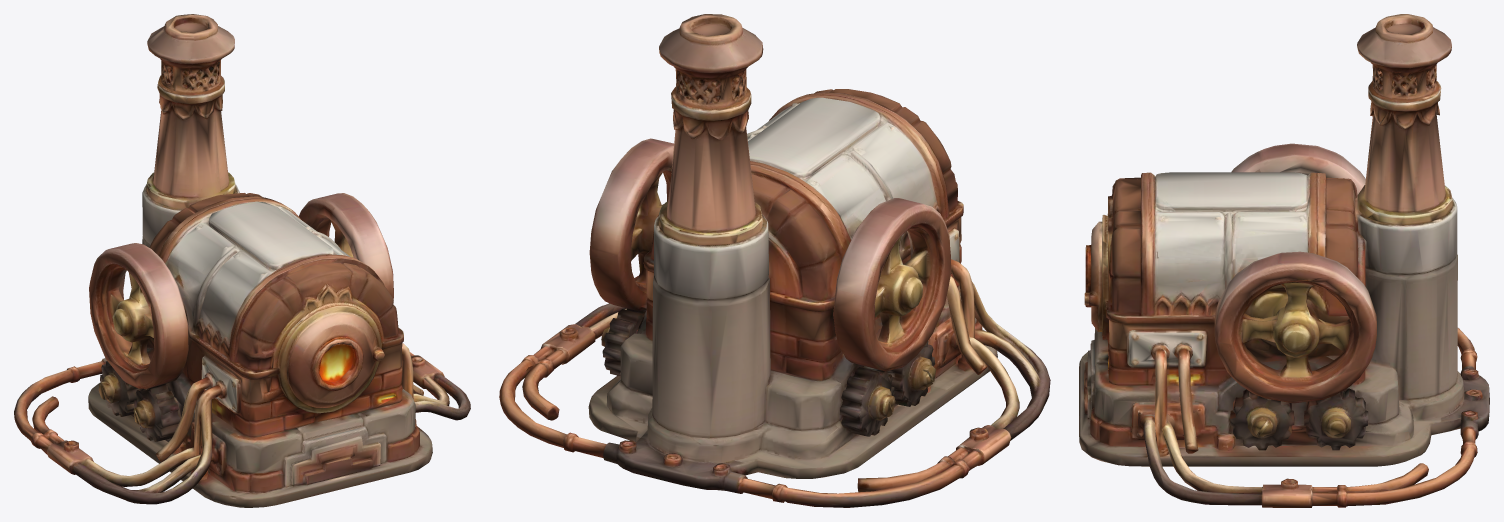
The model's file is coal_burner.glb.
3 renders of one model, left to right at view 1: azimuth 30°, elevation 25°; view 2: azimuth 150°, elevation 25°; view 3: azimuth 270°, elevation 25°, orthographic. The views are drawn at different scales.
Parts seen in each view (by area): view 1: node_0; view 2: node_0; view 3: node_0.
Boxes of the visible parts, <box> form: node_0: <box>14,14,470,507</box>; node_0: <box>499,14,1050,507</box>; node_0: <box>1079,14,1489,507</box>.
Bounding box in the file's own units: 2.41 × 2.2 × 2.12.
Materials: 1 (1 with a texture image).
